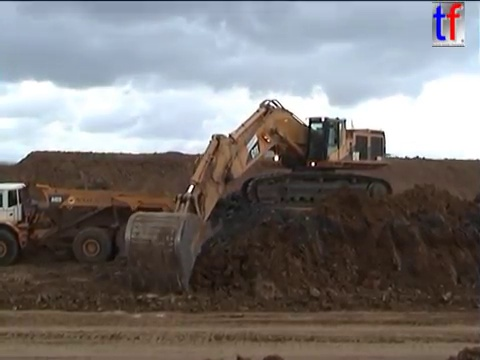excavator: (120, 97, 395, 299)
truck: (1, 179, 190, 268)
